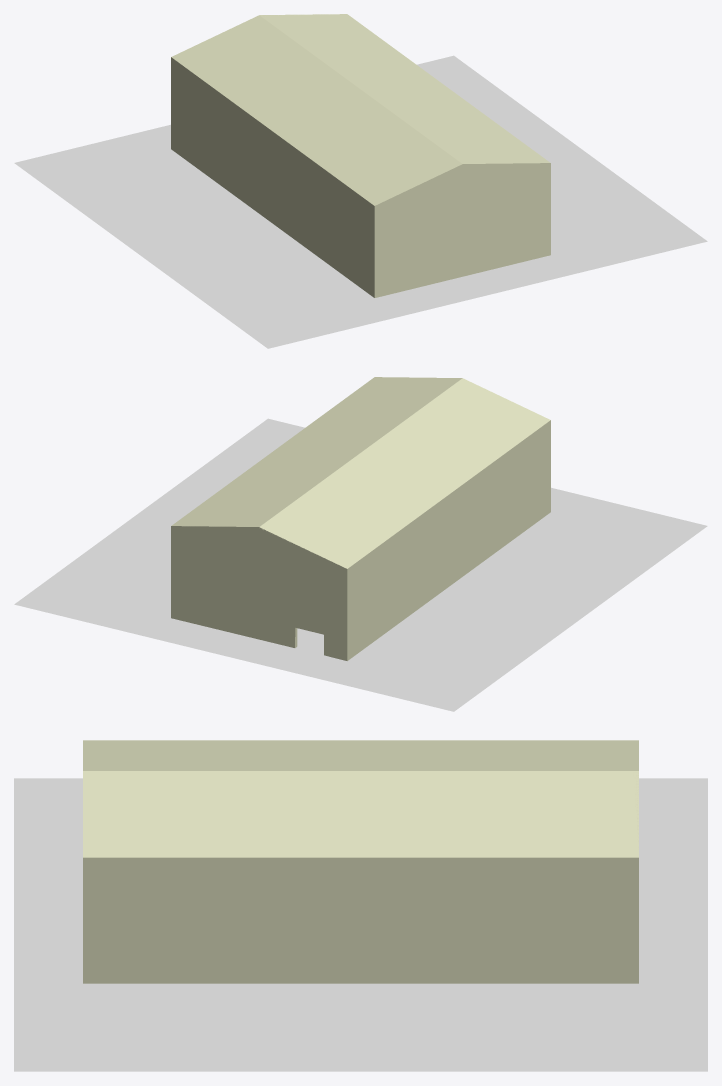
The model's file is Steel Plant.fbx.
3 views of the same model, one above another, from view 1: azimuth 30°, elevation 25°; view 2: azimuth 150°, elevation 25°; view 3: azimuth 270°, elevation 25° (orthographic). The views are drawn at different scales.
Visible parts, largest first — view 1: Steel Plant, Plane; view 2: Steel Plant, Plane; view 3: Steel Plant, Plane.
Part boxes in pixels (left/top/right/bottom): Steel Plant: left=171, top=14, right=550, bottom=297; Plane: left=14, top=55, right=707, bottom=348; Steel Plant: left=171, top=377, right=550, bottom=660; Plane: left=14, top=418, right=707, bottom=711; Steel Plant: left=83, top=740, right=638, bottom=983; Plane: left=14, top=778, right=707, bottom=1071.
Size of the model in its own units: 6984 by 1709 by 6984.
